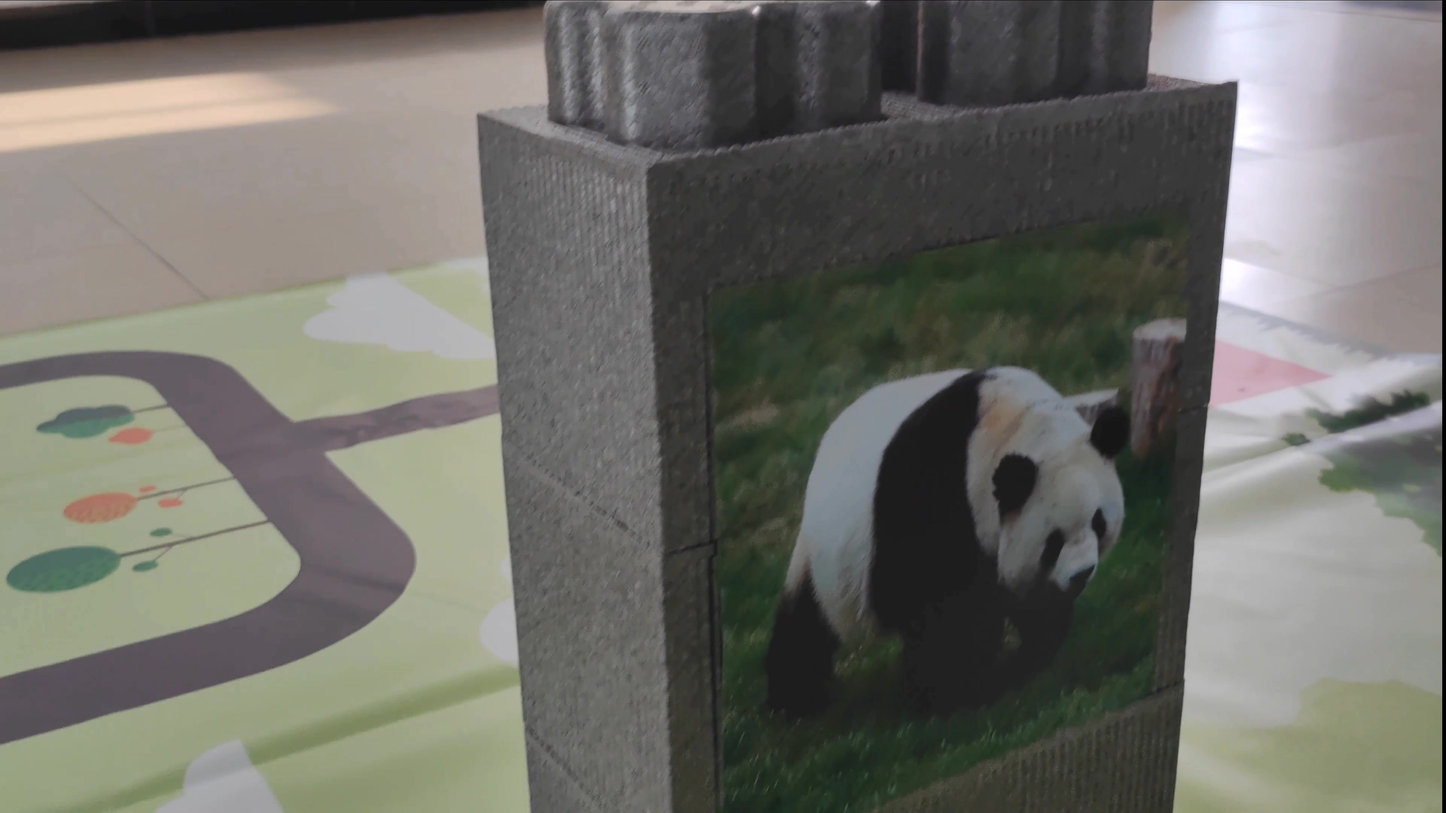panda: (733, 307, 1149, 729)
